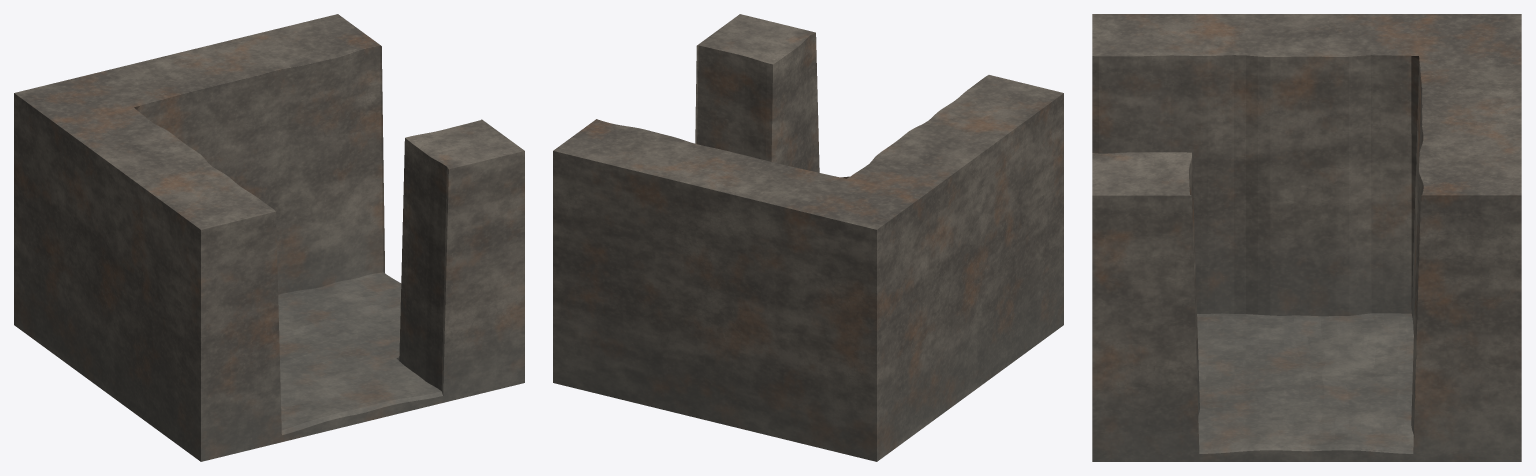
File: dungeon_cave_corner_floor.glb
The picture shows the model from 3 angles, left to right: view 1: azimuth 30°, elevation 25°; view 2: azimuth 150°, elevation 25°; view 3: azimuth 270°, elevation 25°; orthographic projection. The views are drawn at different scales.
Parts seen in each view (by area): view 1: dungeon_cave_corner_floor; view 2: dungeon_cave_corner_floor; view 3: dungeon_cave_corner_floor.
Part boxes in pixels (box(x1,y1,x2,y2)): dungeon_cave_corner_floor: box(14, 14, 524, 461); dungeon_cave_corner_floor: box(553, 14, 1063, 461); dungeon_cave_corner_floor: box(1092, 14, 1521, 461).
Bounding box in the file's own units: 5.05 × 3.46 × 5.05.
Materials: 1 (1 with a texture image).
